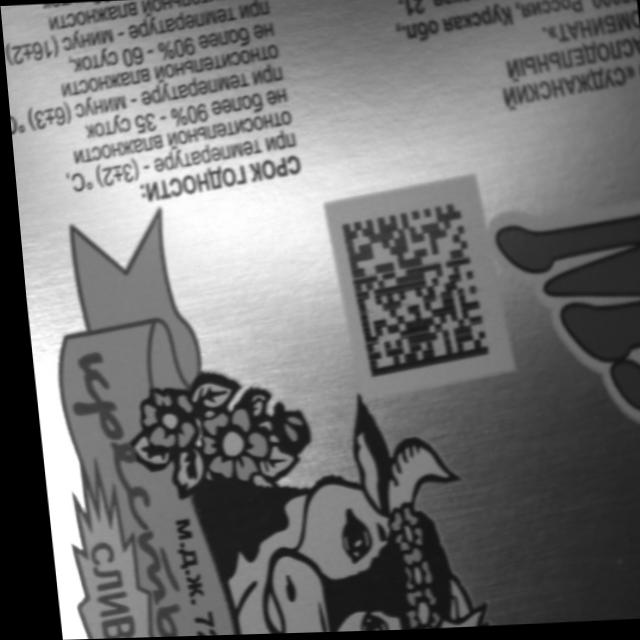datamatrix: (335, 204, 486, 381)
